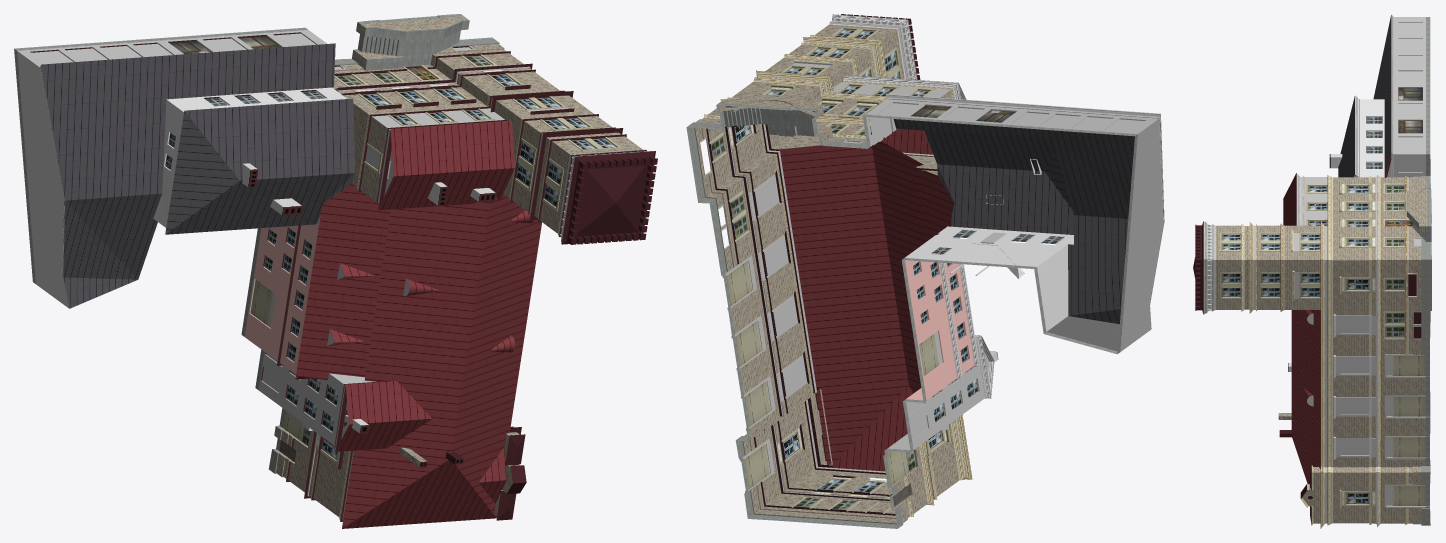
Rendered from Vana_Viru_14.obj.
3 views of the same model, side by side, from view 1: azimuth 30°, elevation 25°; view 2: azimuth 150°, elevation 25°; view 3: azimuth 270°, elevation 25° (orthographic). The views are drawn at different scales.
Visible parts, largest first — view 1: Vana_Viru_14; view 2: Vana_Viru_14; view 3: Vana_Viru_14.
Part boxes in pixels (box(x1,y1,x2,y2)): Vana_Viru_14: box(14, 14, 657, 528); Vana_Viru_14: box(686, 14, 1164, 528); Vana_Viru_14: box(1193, 14, 1431, 528).
Size of the model in its own units: 44.57 by 45.71 by 26.76.
